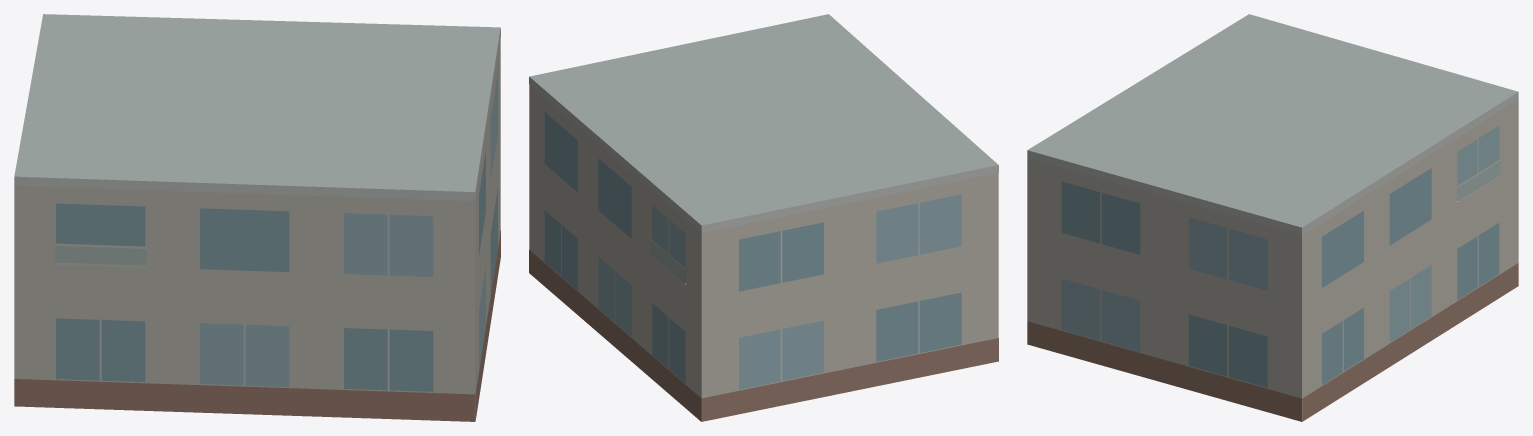
Rendered from survey-upis-32734409.glb.
The picture shows the model from 3 angles, left to right: view 1: azimuth 30°, elevation 25°; view 2: azimuth 150°, elevation 25°; view 3: azimuth 270°, elevation 25°; orthographic projection. The views are drawn at different scales.
Parts seen in each view (by area): view 1: survey-upis-32734409.tmp; view 2: survey-upis-32734409.tmp; view 3: survey-upis-32734409.tmp.
Part boxes in pixels (x1=…): survey-upis-32734409.tmp: x1=14, y1=14, x2=500, y2=421; survey-upis-32734409.tmp: x1=529, y1=14, x2=998, y2=421; survey-upis-32734409.tmp: x1=1027, y1=14, x2=1518, y2=421.
Bounding box in the file's own units: 14.4 × 6.1 × 14.
